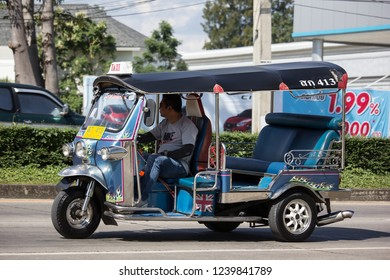threewheel: (50, 61, 348, 242)
